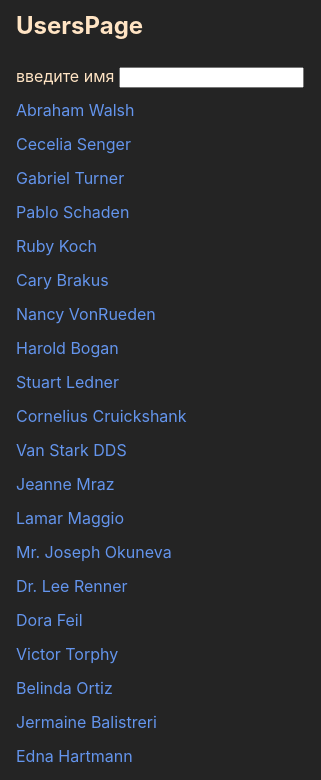
Test: Тест компонента UsersPage › Тест, проверяющий вызов метода setSearchParam из react-router-dom при вводе имени пользователя
Type "pablo" into the field labelled "введите имя" at (211, 77), box [119,67,304,88]
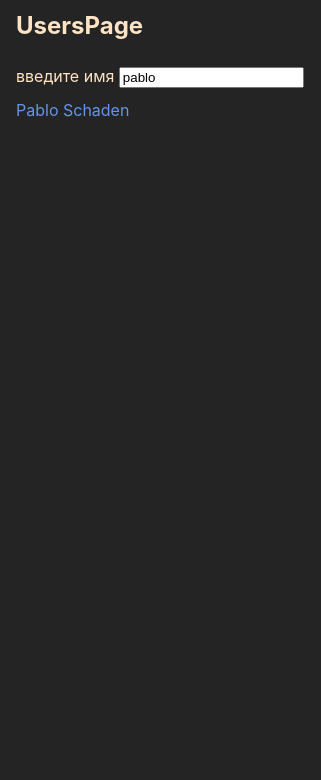
expect the number of links with test id "User" is 1: met, box [16,100,129,120]
